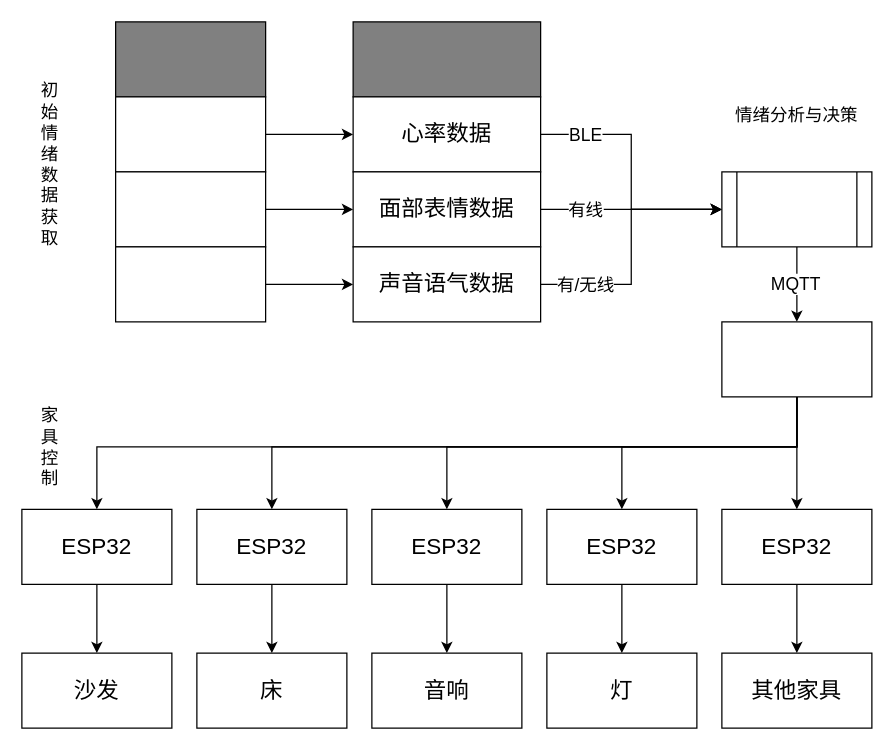
Image size: 894x750. Some labels were removed from this diagram. Here are the shapes that lost their labels. From the top down, the centre of each, then its label:
At point 190,59: "传感器设备".
At point 446,59: "用户数据".
At point 190,134: "手环".
At point 190,209: "摄像头".
At point 796,209: "Raspberry Pi 5".
At point 190,284: "麦克风".
At point 796,359: "Router".
